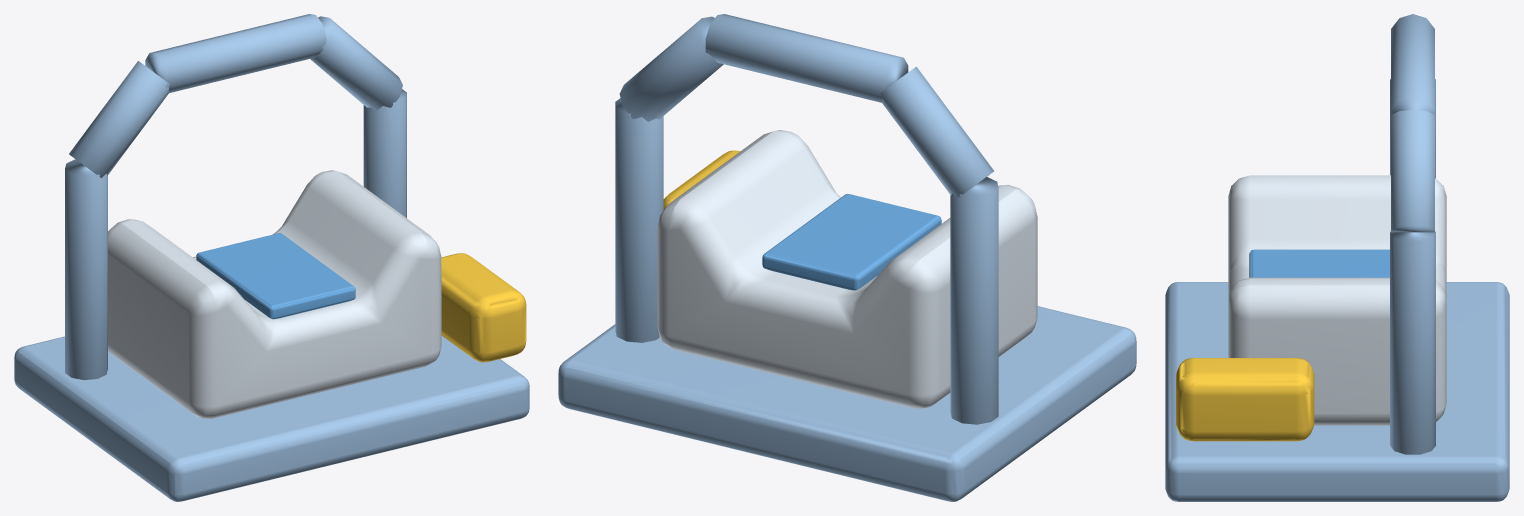
File: pcv_passkey_touch_saddle.glb
3 renders of one model, left to right at view 1: azimuth 30°, elevation 25°; view 2: azimuth 150°, elevation 25°; view 3: azimuth 270°, elevation 25°, orthographic. The views are drawn at different scales.
Parts seen in each view (by area): view 1: pcv_passkey_touch_saddle_MOBILE_JOINED; view 2: pcv_passkey_touch_saddle_MOBILE_JOINED; view 3: pcv_passkey_touch_saddle_MOBILE_JOINED.
Boxes of the visible parts, x1,y1,x2,y2 form: pcv_passkey_touch_saddle_MOBILE_JOINED: [14, 14, 529, 501]; pcv_passkey_touch_saddle_MOBILE_JOINED: [558, 14, 1136, 501]; pcv_passkey_touch_saddle_MOBILE_JOINED: [1165, 14, 1509, 501].
Size of the model in its own units: 1.05 by 0.945 by 0.82.
